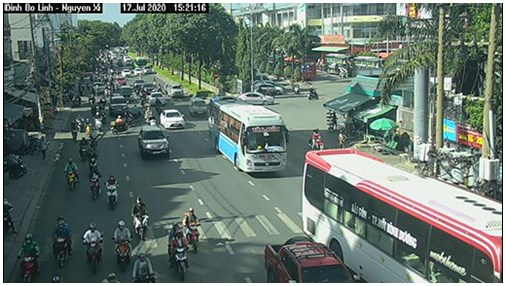xe_ban_tai: (260, 241, 360, 283)
xe_buyt: (300, 148, 502, 283), (208, 95, 290, 177)
xe_hoi: (138, 125, 173, 163), (240, 88, 278, 107), (160, 108, 187, 134), (186, 96, 207, 118)
xe_may: (166, 218, 190, 279), (17, 229, 42, 283), (52, 213, 75, 268), (82, 220, 105, 273), (113, 218, 134, 271), (181, 205, 202, 253), (129, 194, 150, 241), (131, 252, 157, 283), (62, 157, 81, 192), (104, 171, 121, 210), (107, 115, 132, 136), (306, 127, 326, 152), (88, 167, 102, 202), (86, 147, 100, 173), (141, 106, 157, 125), (77, 135, 88, 160), (68, 120, 78, 141)
